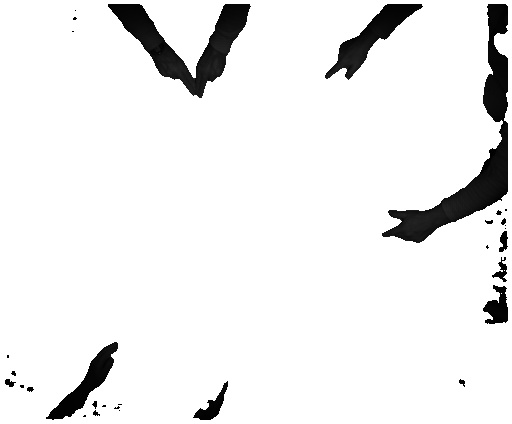hand: (378, 208, 436, 247), (320, 36, 372, 79), (151, 51, 197, 97), (83, 336, 119, 391), (197, 52, 231, 103)
spine: (192, 376, 231, 419)
